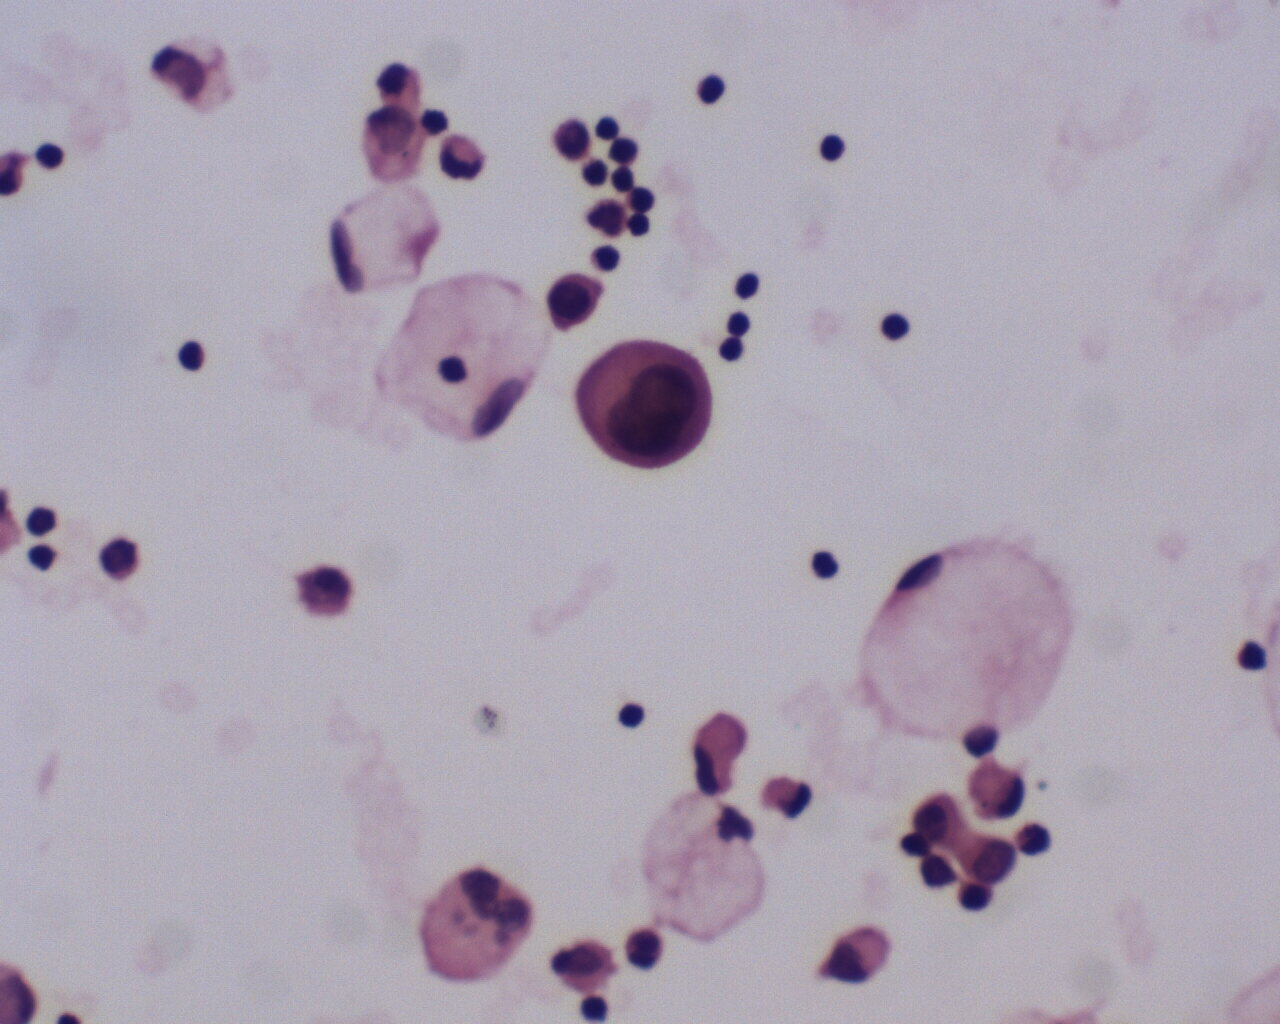ab: (572, 332, 718, 474), (542, 269, 609, 338)
histo: (865, 536, 1076, 739), (376, 270, 538, 445), (328, 185, 443, 299)
lymph: (17, 496, 67, 545), (871, 305, 920, 350), (812, 126, 851, 170), (695, 70, 734, 113), (808, 544, 848, 584), (171, 331, 209, 374), (31, 138, 71, 178), (614, 696, 652, 735), (731, 267, 771, 304)
